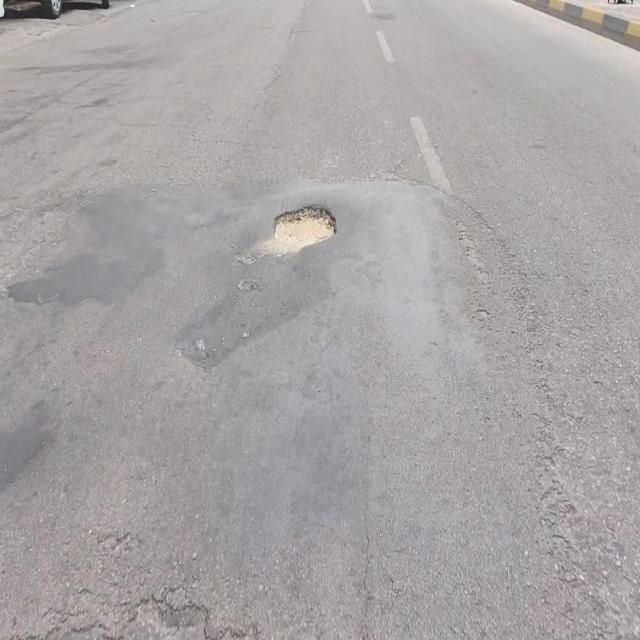Potholes: (272, 200, 336, 256)
